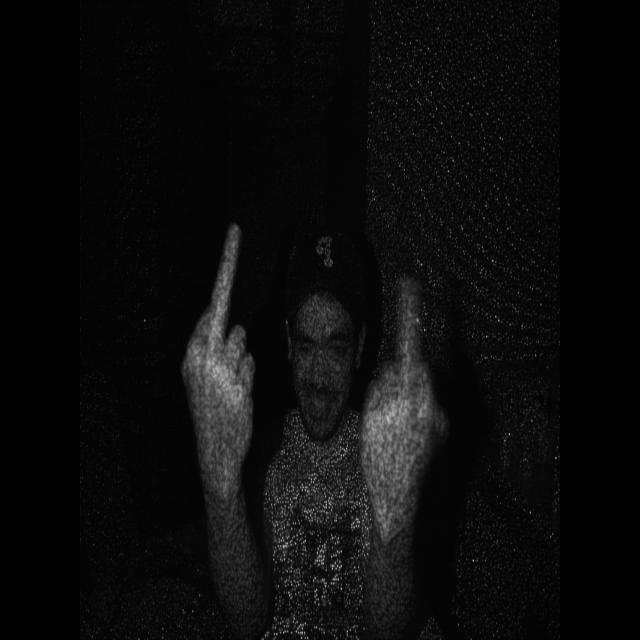FUCK YOU: (171, 206, 261, 503), (355, 238, 432, 546)
